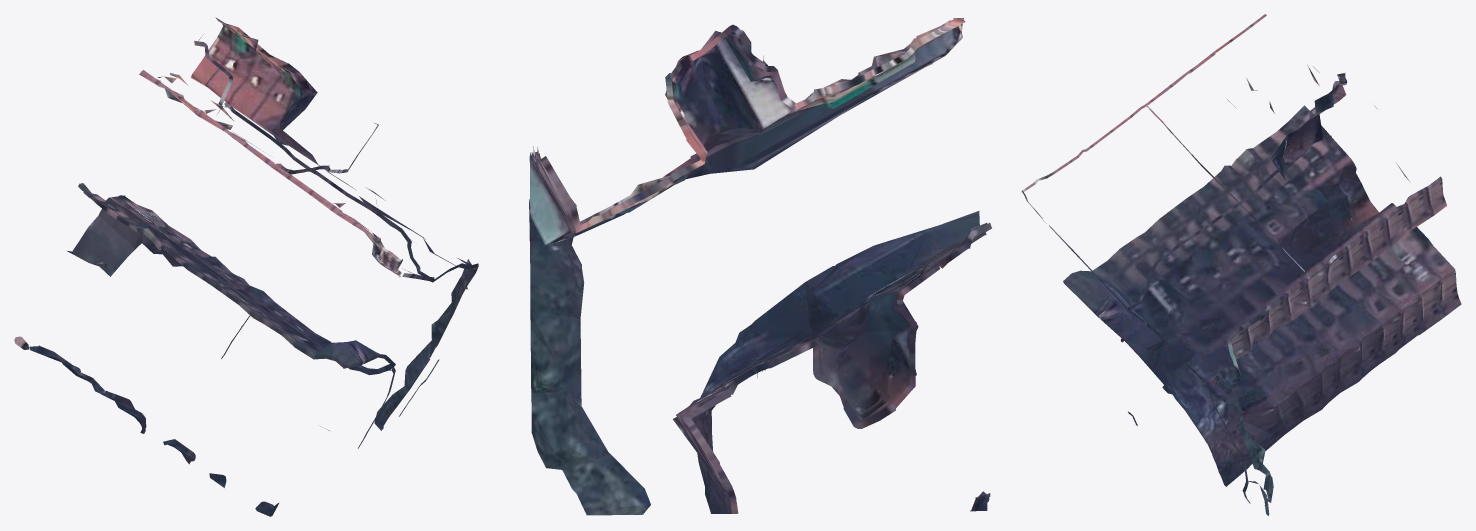
3 renders of one model, left to right at view 1: azimuth 30°, elevation 25°; view 2: azimuth 150°, elevation 25°; view 3: azimuth 270°, elevation 25°, orthographic. The views are drawn at different scales.
Size of the model in its own units: 51.64 by 50.09 by 51.92.
1 material, 1 textured.
